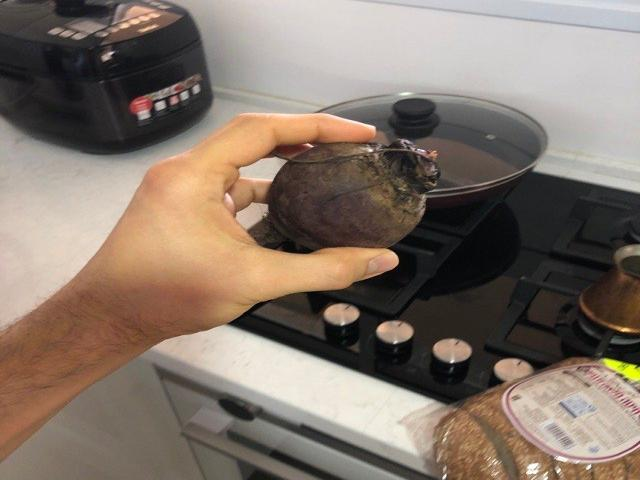beet: (257, 141, 440, 249)
